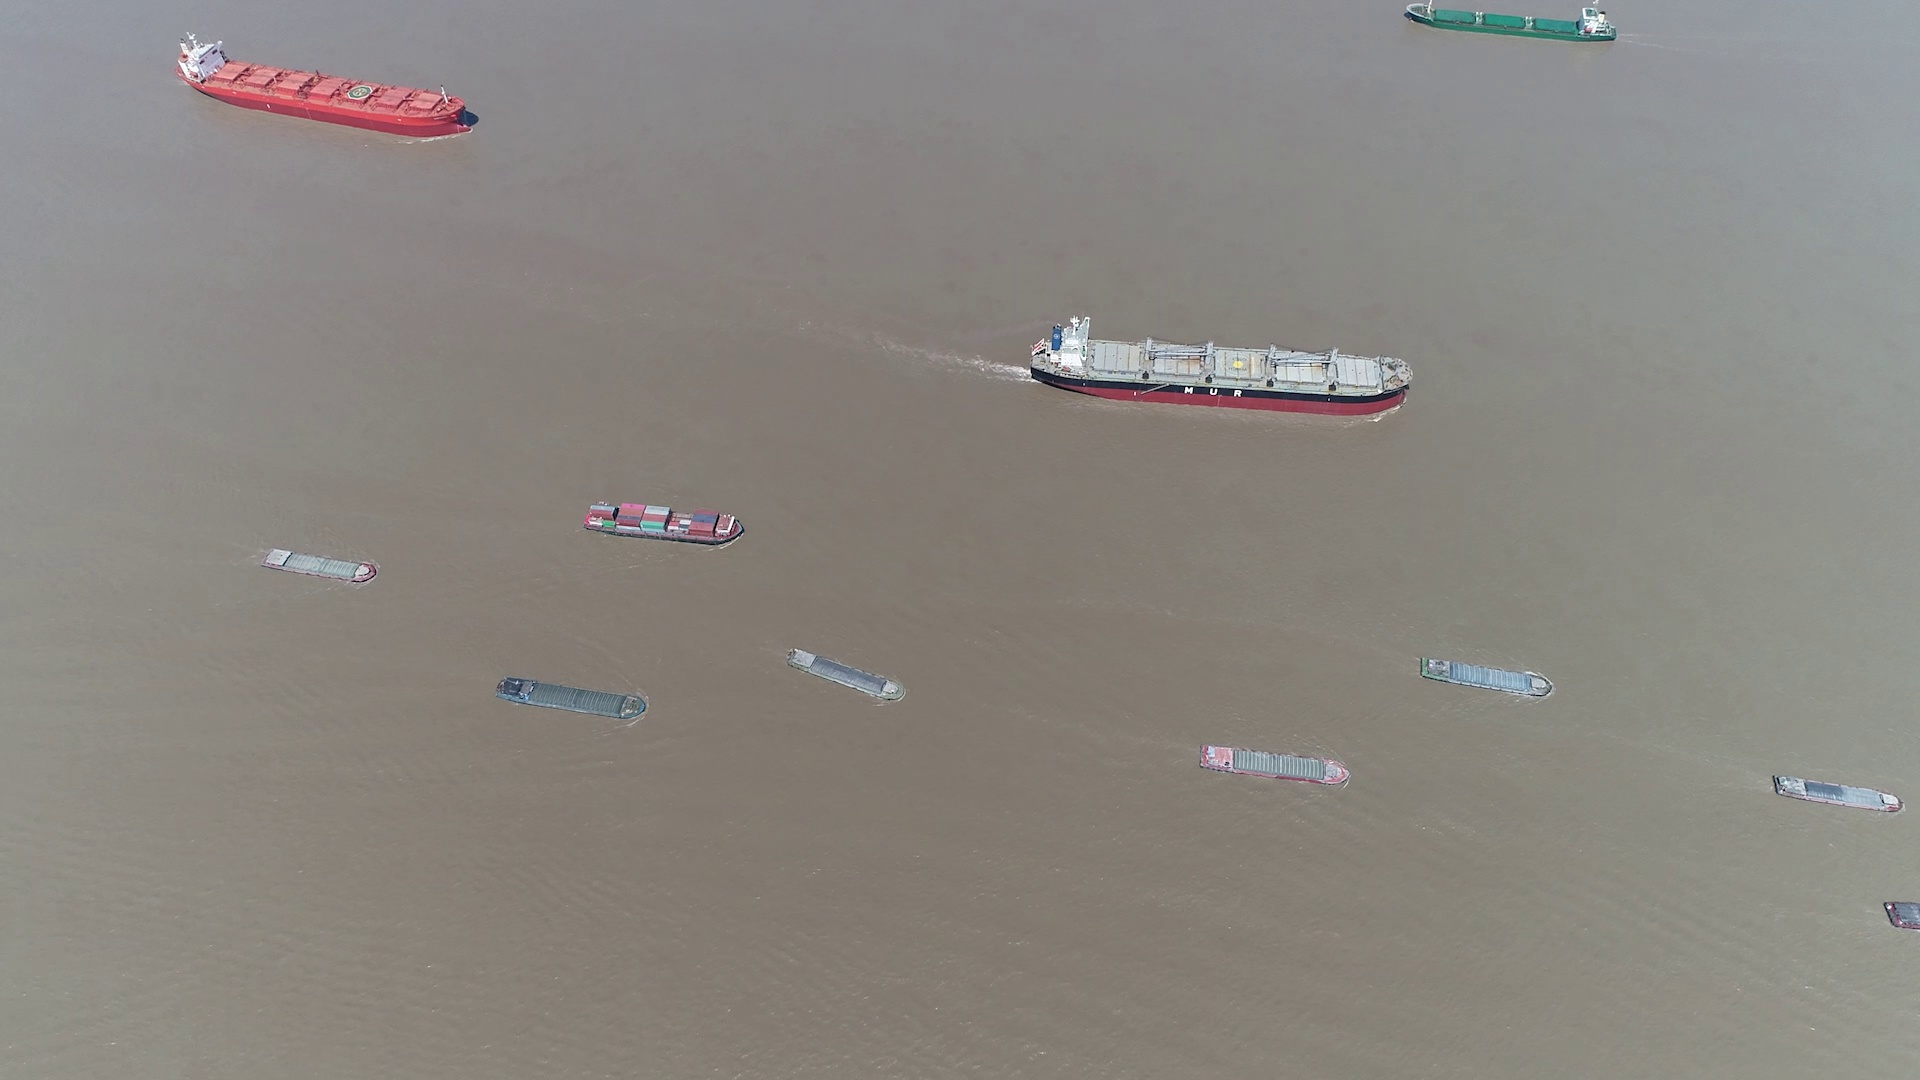ship: (1034, 320, 1414, 415), (175, 30, 473, 138), (1404, 5, 1618, 44), (583, 498, 742, 542), (496, 676, 650, 720), (787, 649, 905, 703), (1200, 745, 1350, 785), (1422, 657, 1553, 699), (1772, 773, 1903, 814), (260, 547, 375, 582), (1886, 901, 1920, 932)
